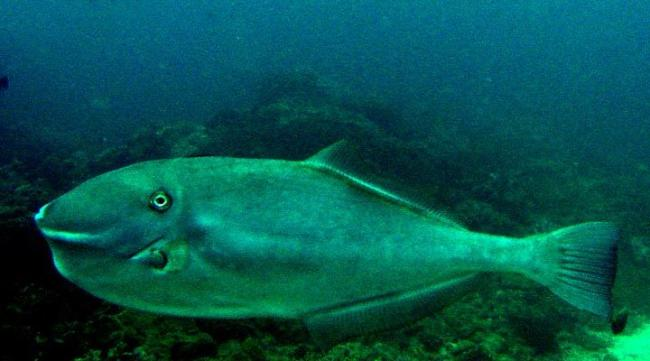fish: (31, 153, 616, 321)
